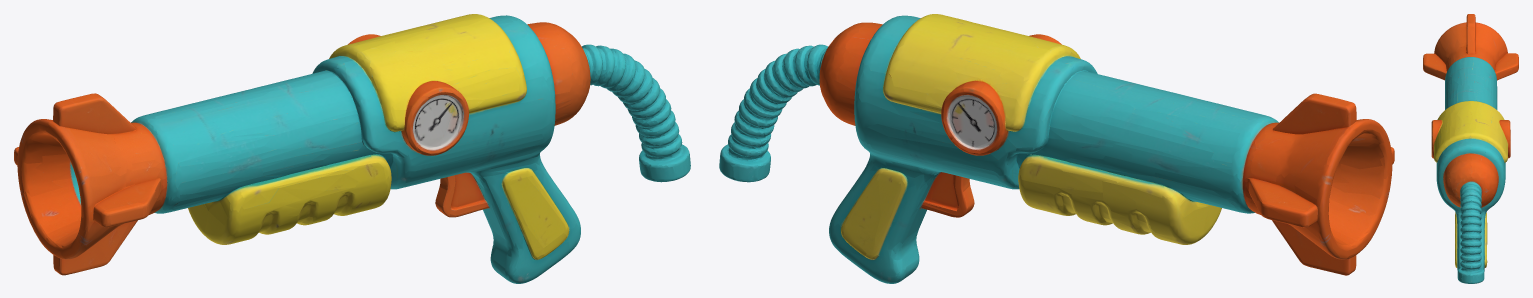
Rendered from lancia_b_cannone.glb.
The picture shows the model from 3 angles, left to right: view 1: azimuth 30°, elevation 25°; view 2: azimuth 150°, elevation 25°; view 3: azimuth 270°, elevation 25°; orthographic projection. The views are drawn at different scales.
Visible parts, largest first — view 1: Mesh_0; view 2: Mesh_0; view 3: Mesh_0.
Part boxes in pixels (x1,y1,x2,y2): Mesh_0: [14, 14, 690, 283]; Mesh_0: [719, 14, 1394, 283]; Mesh_0: [1423, 14, 1518, 283].
Size of the model in its own units: 1.9 by 0.8135 by 0.4757.
1 material, 1 textured.
